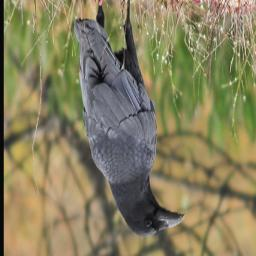Crow: (71, 0, 184, 238)
